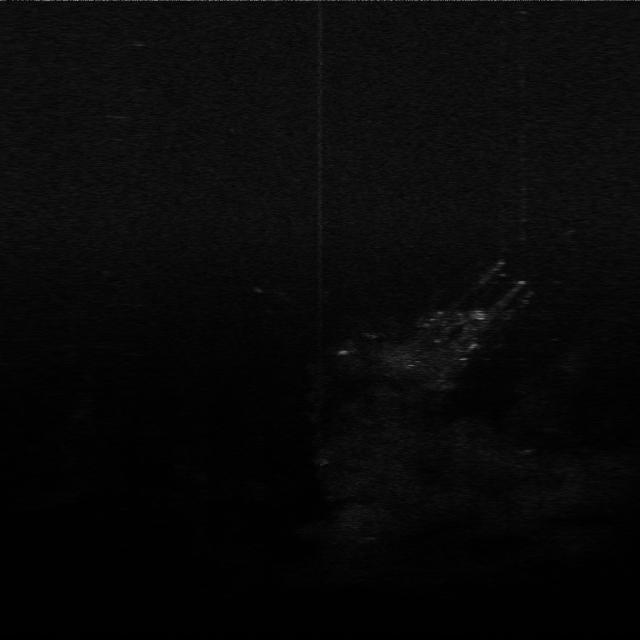rov: (466, 306, 493, 326)
